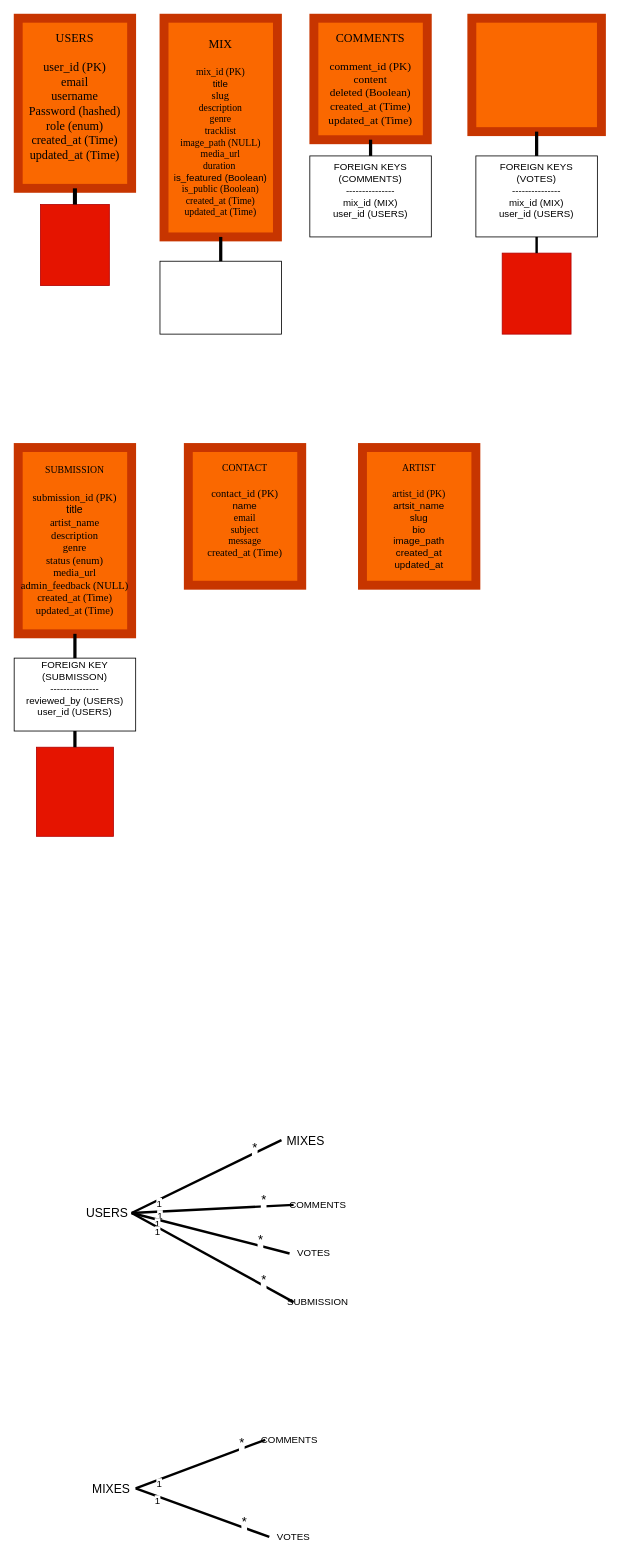
This 620x1563 diagram has some shape labels left out. Each missing label, with the centre of its shape:
ENUM (ROLE) --------------- Admin User: (74,245)
ENUM (STATUS) --------------- pending approved rejected: (74,791)
ENUM (VOTES) --------------- LIKE DISLIKE: (536,293)
FOREIGN KEY (MIX) --------------- created_by_user (USERS) artist_id (ARTIST): (220,297)
VOTES vote_id (PK) vote_type (enum) created_at updated_at: (536,74)
